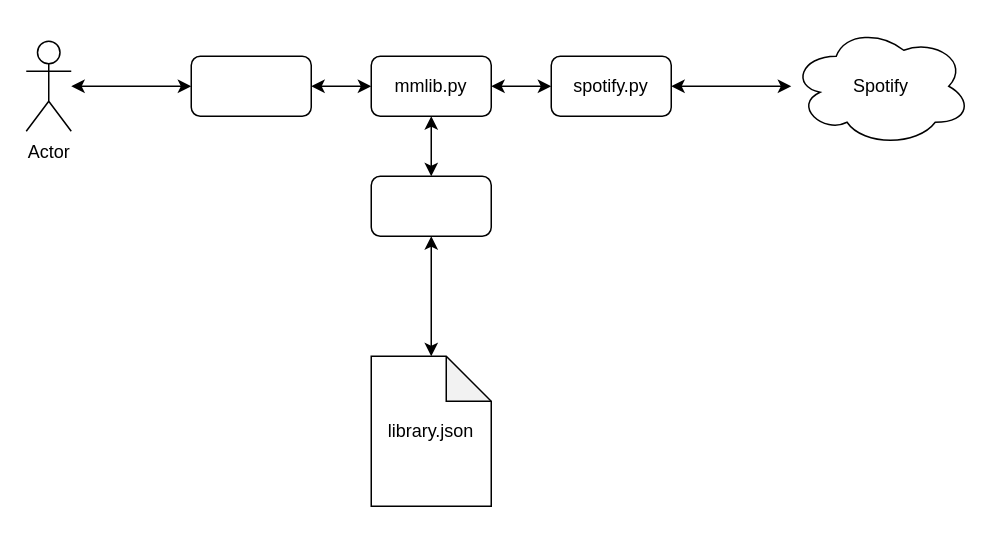
Image size: 998x533. Some labels were removed from this diagram. The shapes that lost their labels are listed below. From the top down, each one's centre as x and y in pixels, then its label:
At (x=250, y=85): "gui.py".
At (x=430, y=205): "library.py".
